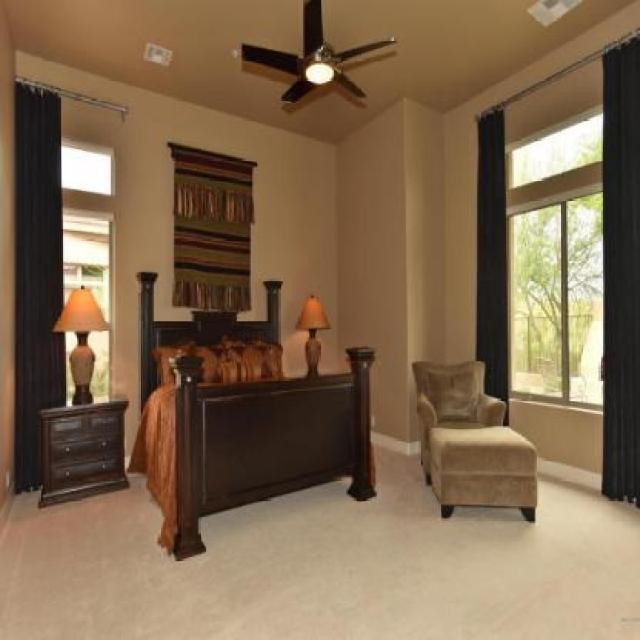floor: (2, 452, 639, 640)
